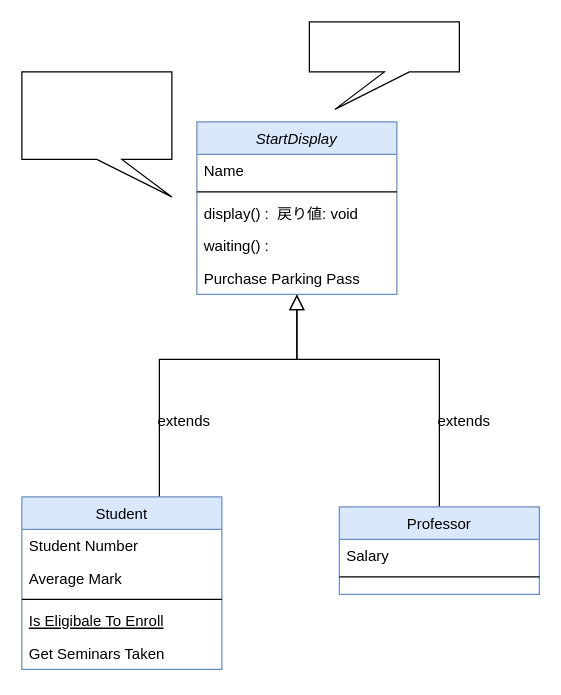
Some shapes in this 561 by 695 pixel diagram are drawn without their labels. Here are the shapes that lost their labels. From the top down, the centre of each, then its label:
point (383, 65): クラス名
point (96, 134): 上の段 : フィールド 下の段 : メソッド
